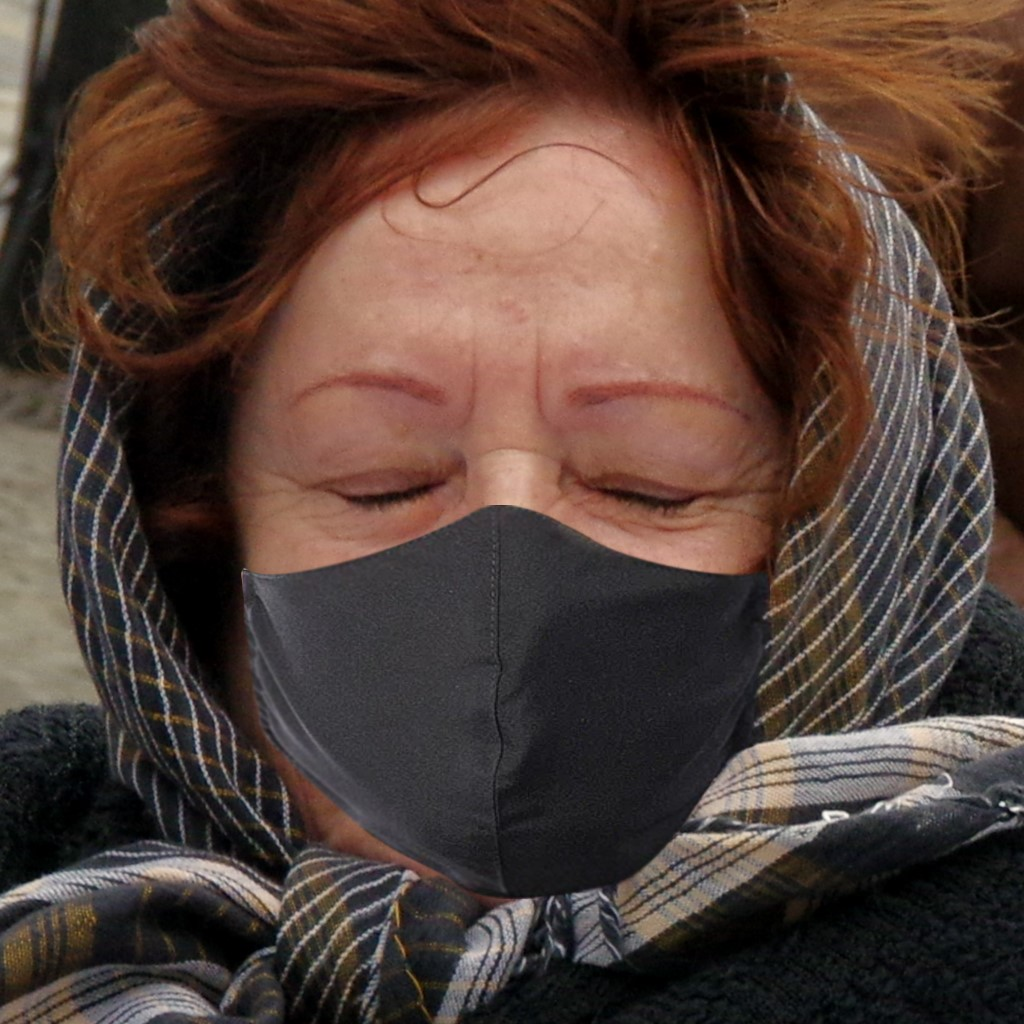con_mascara: (217, 60, 824, 954)
